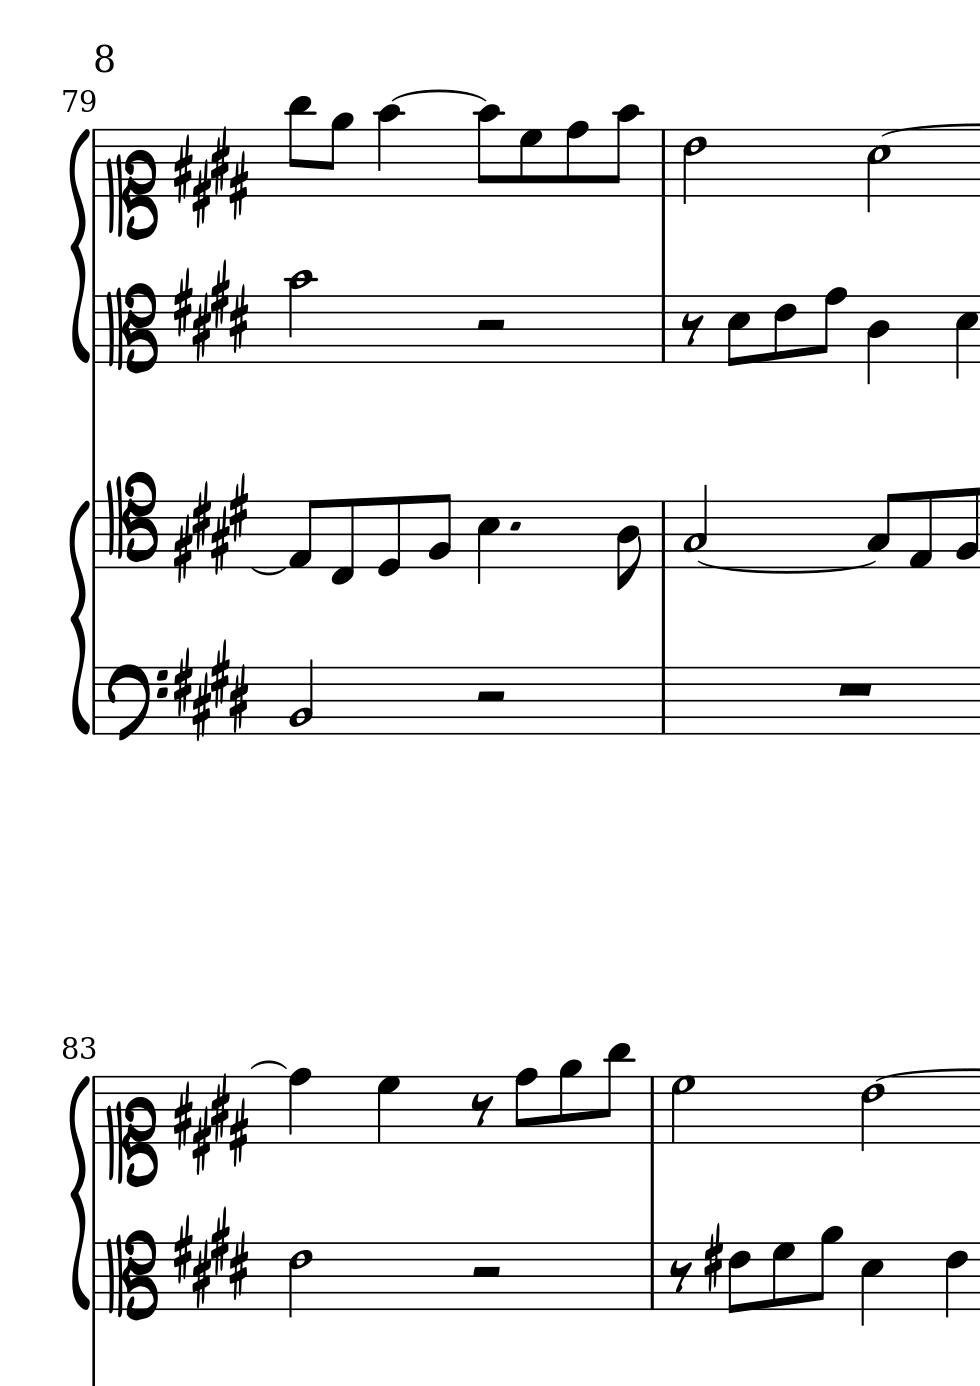2_10: (285, 268, 314, 365)
2_2: (287, 657, 314, 735)
2_3: (681, 485, 708, 568)
2_5: (865, 127, 891, 213)
2_6: (680, 128, 705, 205), (859, 1075, 883, 1152), (287, 1242, 311, 1319)
2_7: (669, 1074, 694, 1146)
3: (78, 1035, 97, 1062)
4_10: (375, 102, 402, 198)
4_4: (865, 295, 890, 385)
4_5: (474, 499, 502, 586), (858, 1242, 883, 1329), (952, 294, 977, 382)
4_6: (943, 1241, 968, 1319)
4_7: (375, 1074, 401, 1146)
4_8: (286, 1066, 311, 1146)
7: (62, 87, 77, 115)
8: (92, 42, 115, 74), (60, 1034, 78, 1062)
8_-1: (328, 497, 355, 587)
8_0: (375, 495, 402, 579)
8_1: (285, 497, 320, 571), (906, 489, 934, 571)
8_10: (606, 103, 640, 199), (476, 102, 502, 199)
8_11: (598, 1040, 631, 1147), (286, 92, 312, 199)
8_2: (953, 486, 978, 571), (426, 492, 452, 569)
8_3: (867, 491, 898, 571)
8_4: (614, 499, 641, 592)
8_5: (724, 294, 751, 368)
8_6: (727, 1241, 751, 1316), (772, 294, 797, 365)
8_7: (517, 127, 542, 198), (770, 1241, 795, 1311)
8_8: (813, 285, 846, 364), (563, 120, 588, 199), (513, 1067, 538, 1146)
8_9: (811, 1225, 843, 1311), (323, 112, 353, 198), (558, 1059, 582, 1146)
9: (78, 88, 97, 115)
Brace: (69, 1070, 91, 1315), (69, 494, 90, 741), (69, 125, 90, 367)
Cclef: (103, 281, 159, 376), (102, 1228, 156, 1322)
E_S: (172, 476, 253, 577), (173, 1207, 249, 1312), (175, 641, 250, 745), (174, 261, 249, 364), (176, 125, 250, 229), (173, 1076, 252, 1170)
Fclef: (105, 662, 168, 745)
Rests1: (834, 679, 875, 699)
Rests2: (472, 317, 509, 333), (473, 688, 508, 704), (469, 1264, 504, 1280)
Rests8: (678, 311, 704, 348), (469, 1092, 494, 1129), (667, 1258, 693, 1295)
Sharp: (701, 1226, 723, 1294)
Single_barline: (654, 129, 672, 197), (654, 295, 671, 362), (655, 501, 671, 567), (655, 668, 671, 734), (644, 1243, 660, 1309), (645, 1076, 660, 1145), (89, 501, 102, 569), (88, 296, 101, 364), (88, 1243, 101, 1310), (88, 1077, 101, 1143), (88, 668, 101, 733), (89, 130, 101, 198)
Slur: (699, 558, 880, 577), (391, 87, 489, 105), (249, 1059, 287, 1071), (250, 565, 287, 577)
Soprano_Cclef: (105, 126, 157, 241), (104, 1073, 154, 1186)
Tensor_Cclef: (104, 469, 158, 571)
dot: (506, 517, 522, 534)
